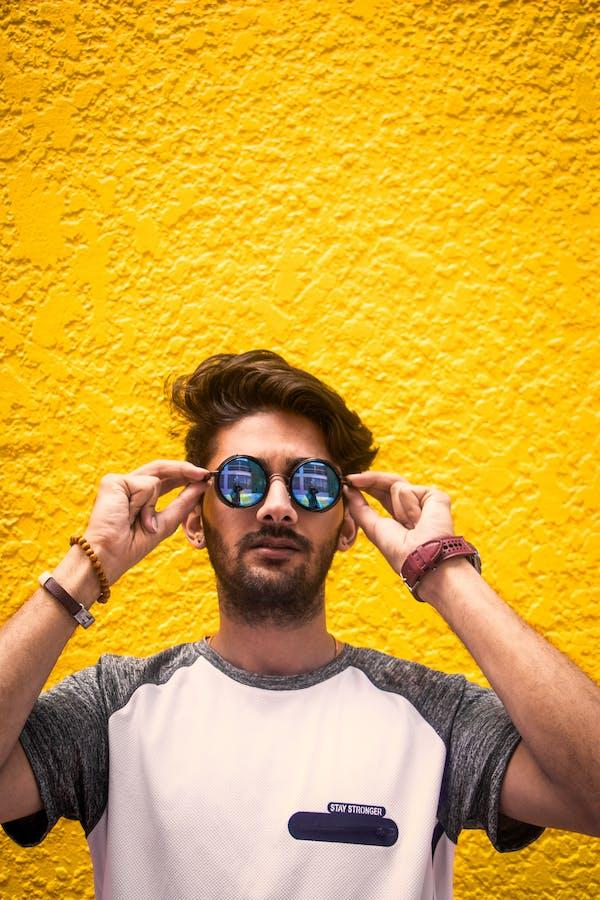eyeglasses: (208, 442, 348, 522)
